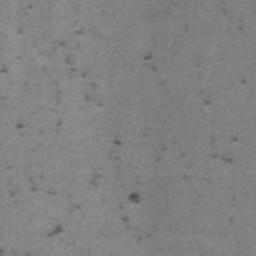Oxide scale of temperature system: (0, 100, 239, 256), (58, 28, 104, 108), (0, 26, 24, 73), (219, 5, 246, 32), (141, 51, 157, 73), (14, 122, 26, 129), (239, 78, 248, 86), (56, 119, 63, 128)
